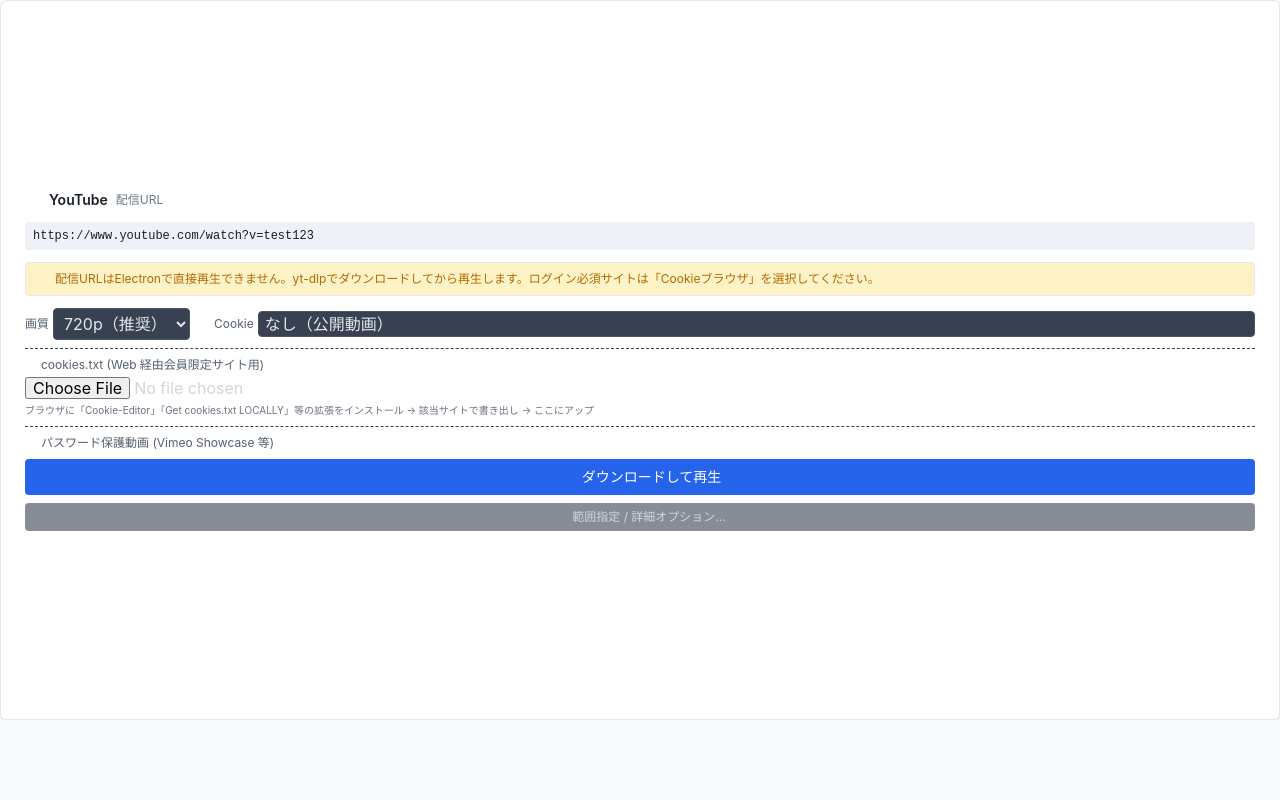
Test: StreamingDownloadPanel › shows a cookie browser hint after selecting a browser
The width and height of the screenshot is (1280, 800).
Select "Chrome" in the 2nd dropdown. click: (756, 324)
box: [258,310,1255,336]
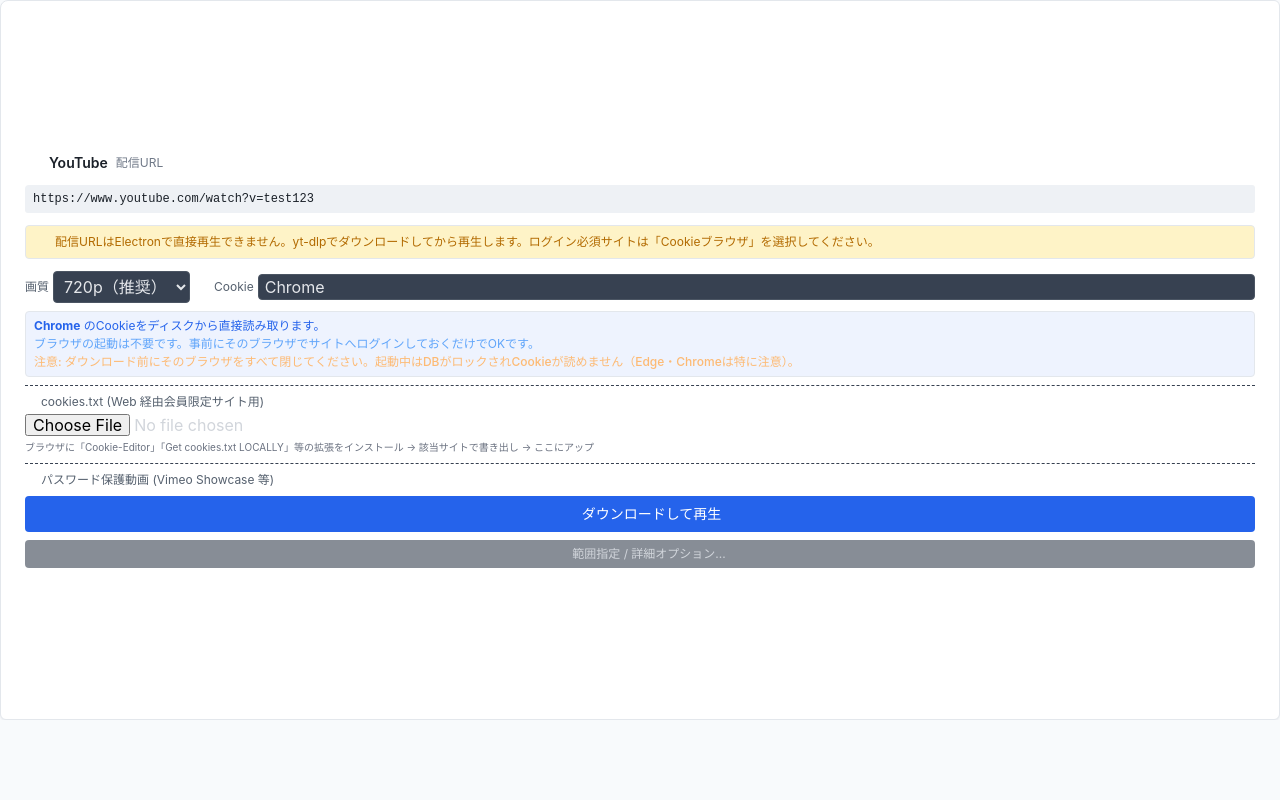
Expected: the text "Chrome のCookieをディスクから直接読み取ります。" is shown, [34,318,325,332]
